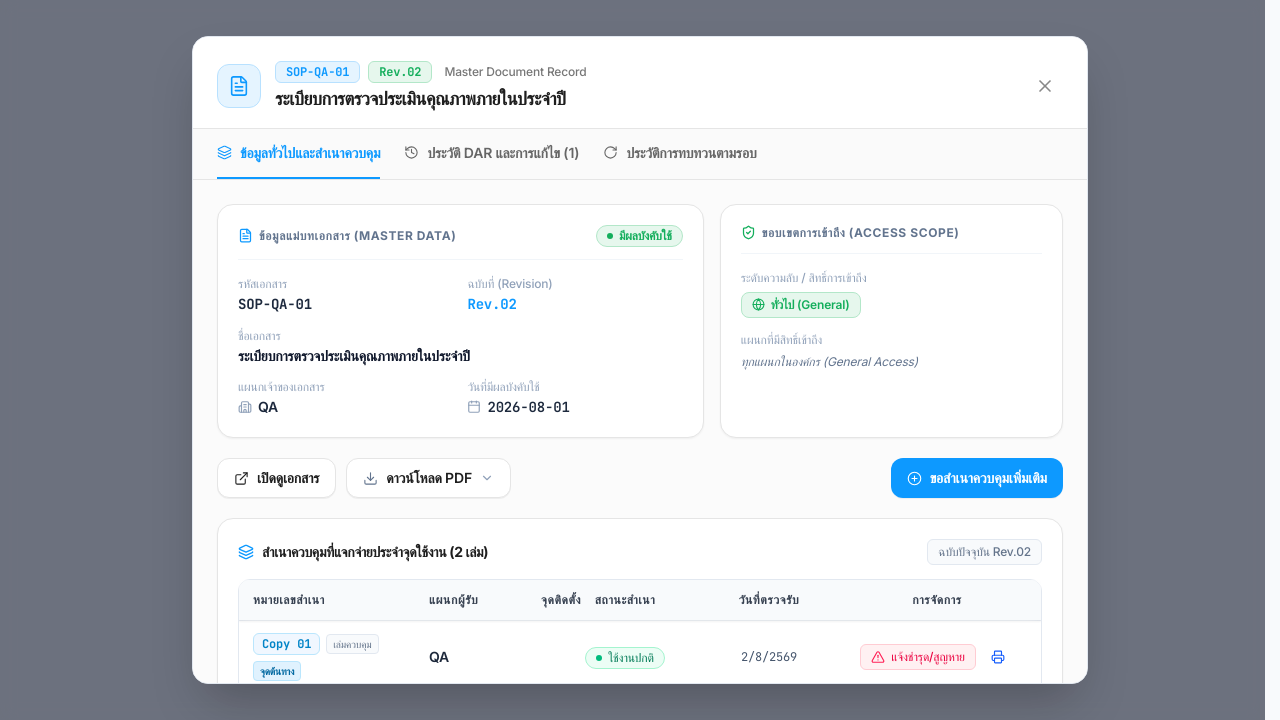
Test: DocumentDetailModal Figma UI3 Master Overhaul Tests › 5. Tab 2 "ประวัติ DAR และการแก้ไข" displays rich audit trail and 4-step sign-off matrix without empty dashes
Step 1. Click the button "ประวัติ DAR และการแก้ไข (1)" → (492, 154), box [404,129,579,179]
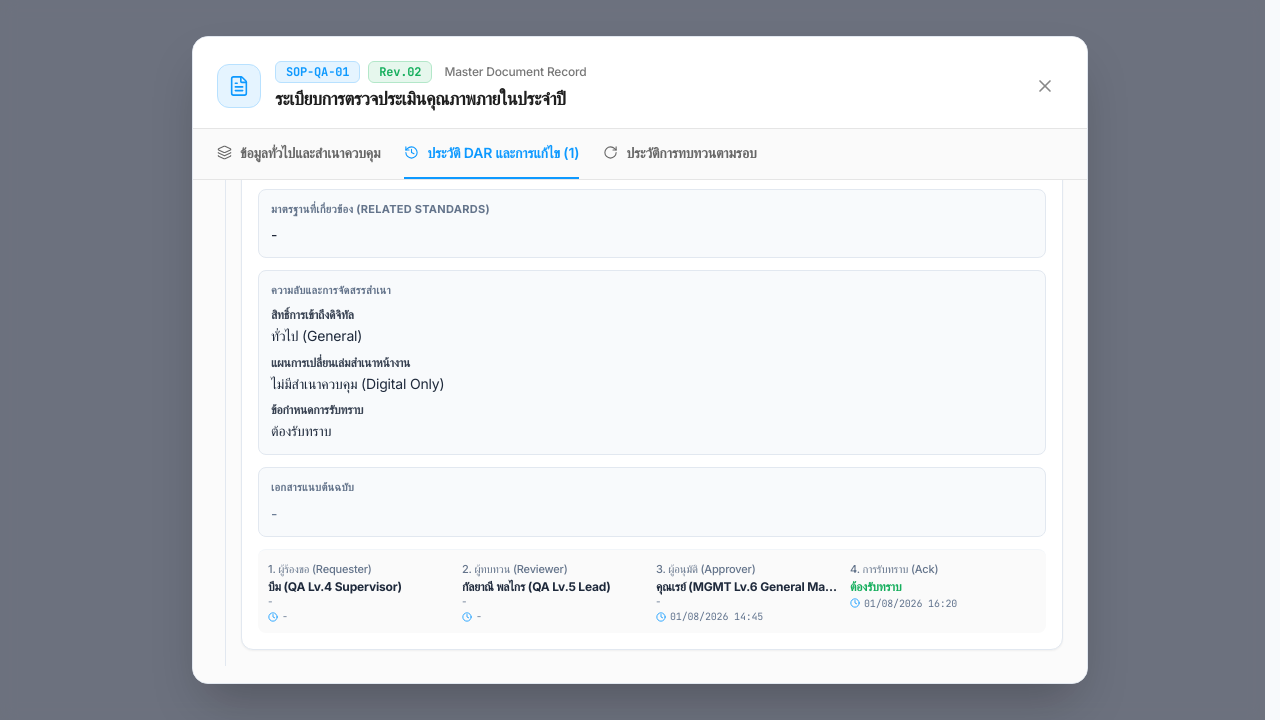
Expected: the text "กัลยาณี พลไกร (QA Lv.5 Lead)" is shown, [462,578,611,594]
Expected: the text "คุณเรย์ (MGMT Lv.6 General Manager)" is shown, [656,578,842,594]
Expected: the text "ต้องรับทราบ" below "ข้อกำหนดการรับทราบ" is shown, [271,422,331,440]
